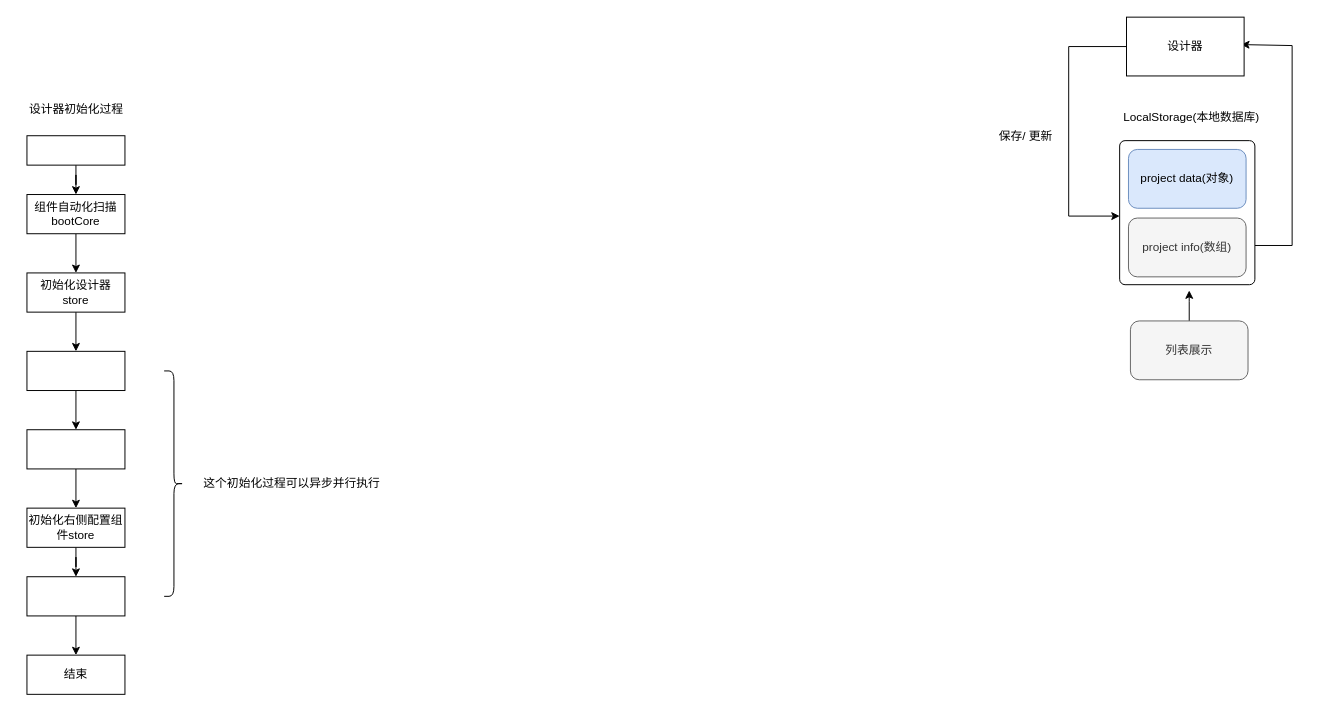
This 1317x711 diagram has some shape labels left out. The shapes that lost their labels are listed below. From the top down, each one's box as (x1, y1, x2, y2) in pixels, then its label:
(26, 135, 125, 165): 开始
(26, 350, 125, 391): 初始化头部组件库
(26, 429, 125, 469): 初始化左侧组件库
(26, 576, 125, 616): 初始化底部统计信息
